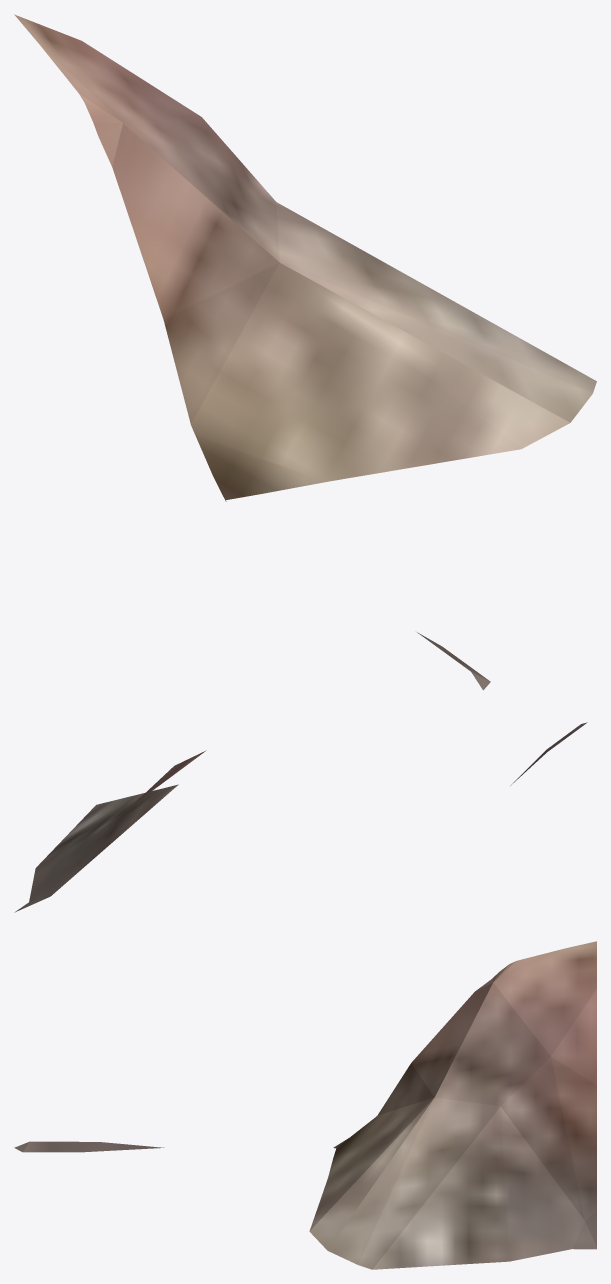
3 renders of one model, top to bottom at view 1: azimuth 30°, elevation 25°; view 2: azimuth 150°, elevation 25°; view 3: azimuth 270°, elevation 25°, orthographic. The views are drawn at different scales.
Size of the model in its own units: 0.1345 by 0.1063 by 0.2718.
Materials: 1 (1 with a texture image).
